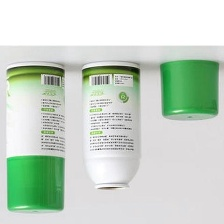aerosol_cans: (1, 58, 70, 219), (78, 58, 144, 196)
